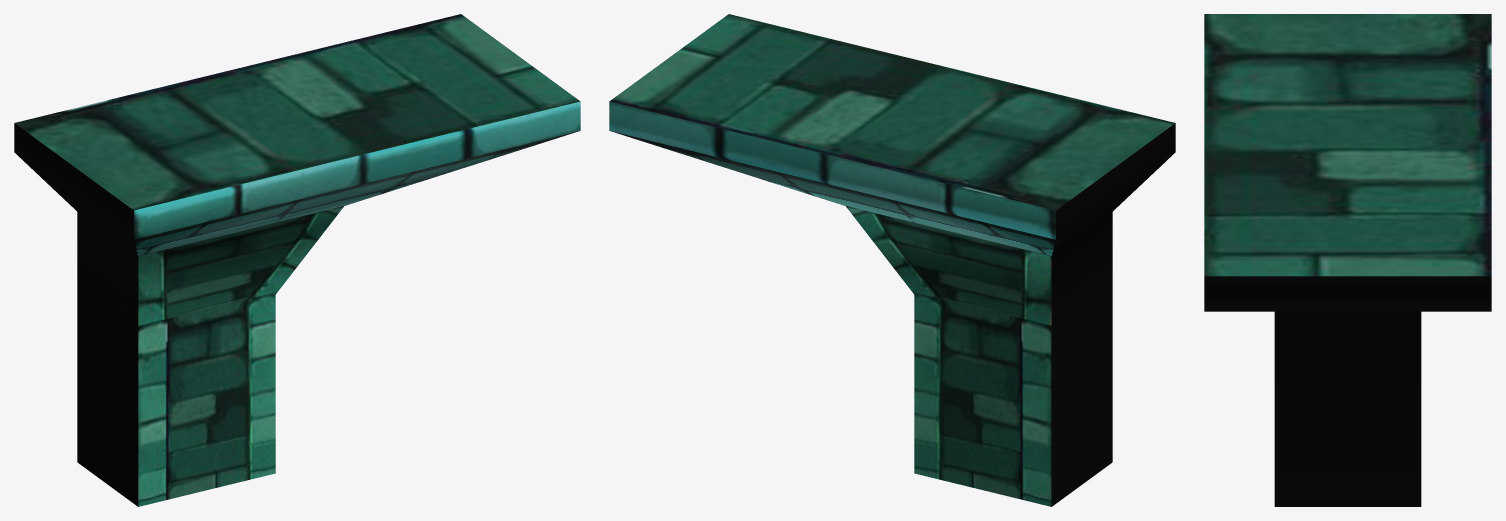
The model's file is Puente4.FBX.
The picture shows the model from 3 angles, left to right: view 1: azimuth 30°, elevation 25°; view 2: azimuth 150°, elevation 25°; view 3: azimuth 270°, elevation 25°; orthographic projection. The views are drawn at different scales.
Parts seen in each view (by area): view 1: pCube1; view 2: pCube1; view 3: pCube1.
Boxes of the visible parts, <box> form: pCube1: <box>14,14,580,506</box>; pCube1: <box>609,14,1175,506</box>; pCube1: <box>1204,14,1491,506</box>.
Size of the model in its own units: 12.97 by 9.05 by 6.01.
